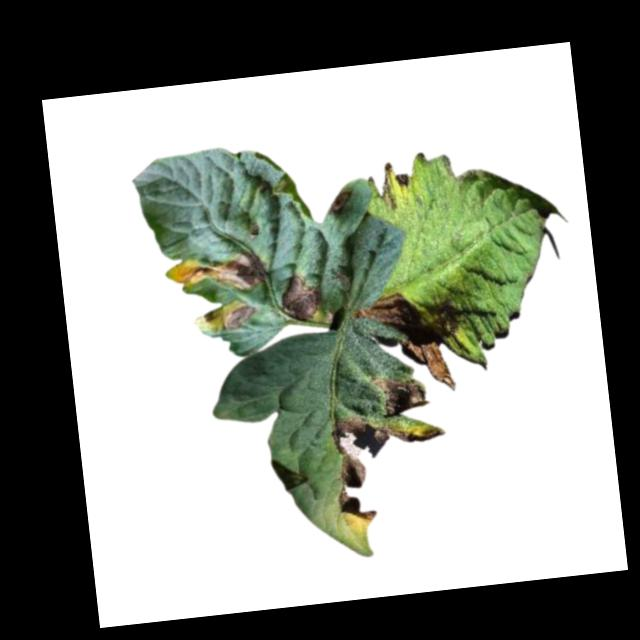Early_blight: (329, 405, 454, 526), (352, 286, 457, 400), (171, 248, 267, 302), (372, 370, 430, 420), (275, 271, 322, 326), (218, 300, 258, 332), (327, 187, 353, 215), (392, 172, 410, 190)
